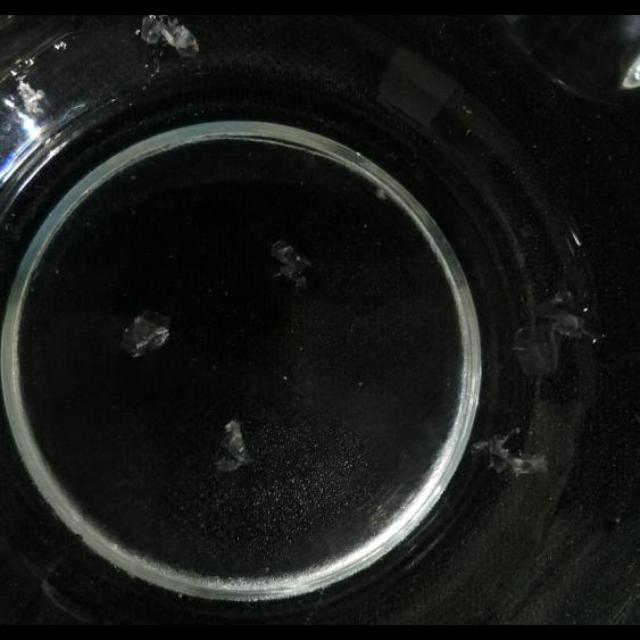Fibre: (512, 296, 598, 376), (475, 429, 547, 476), (118, 311, 172, 359), (141, 15, 199, 57), (214, 420, 252, 472), (375, 187, 389, 200)
Fragment: (269, 239, 311, 285)
microbeads: (282, 376, 288, 382)
